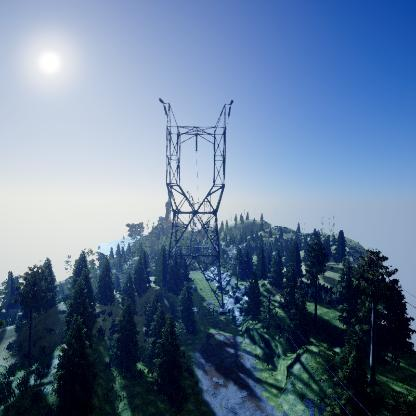tower: (156, 96, 234, 316)
